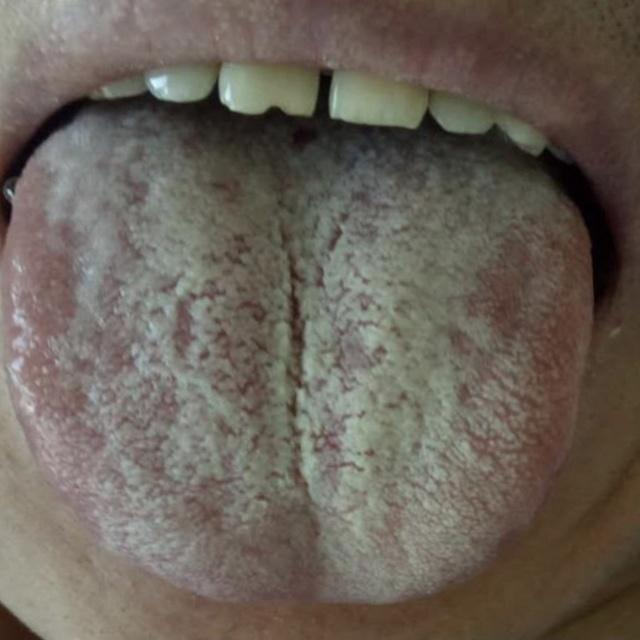huangtaishe: (2, 104, 596, 606)
liewenshe: (270, 222, 344, 496)
